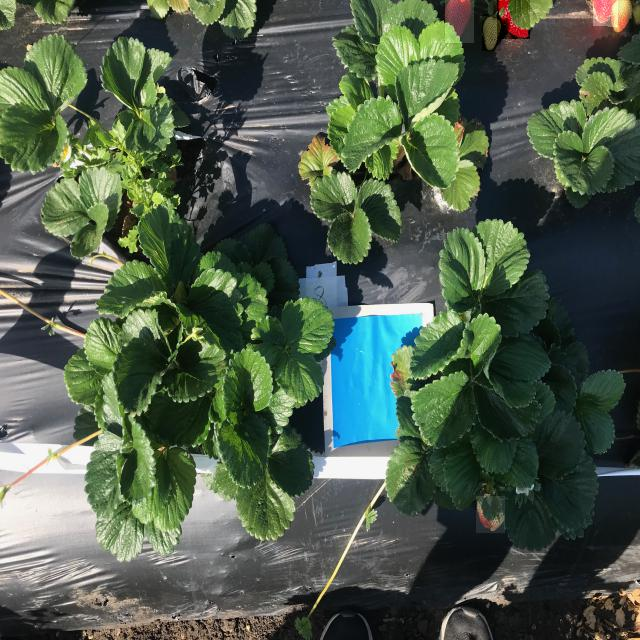Green Strawberry: (482, 14, 502, 52)
Red Strawberry: (497, 0, 531, 40), (445, 0, 475, 44), (476, 496, 506, 534), (608, 0, 634, 33), (593, 0, 618, 27)
